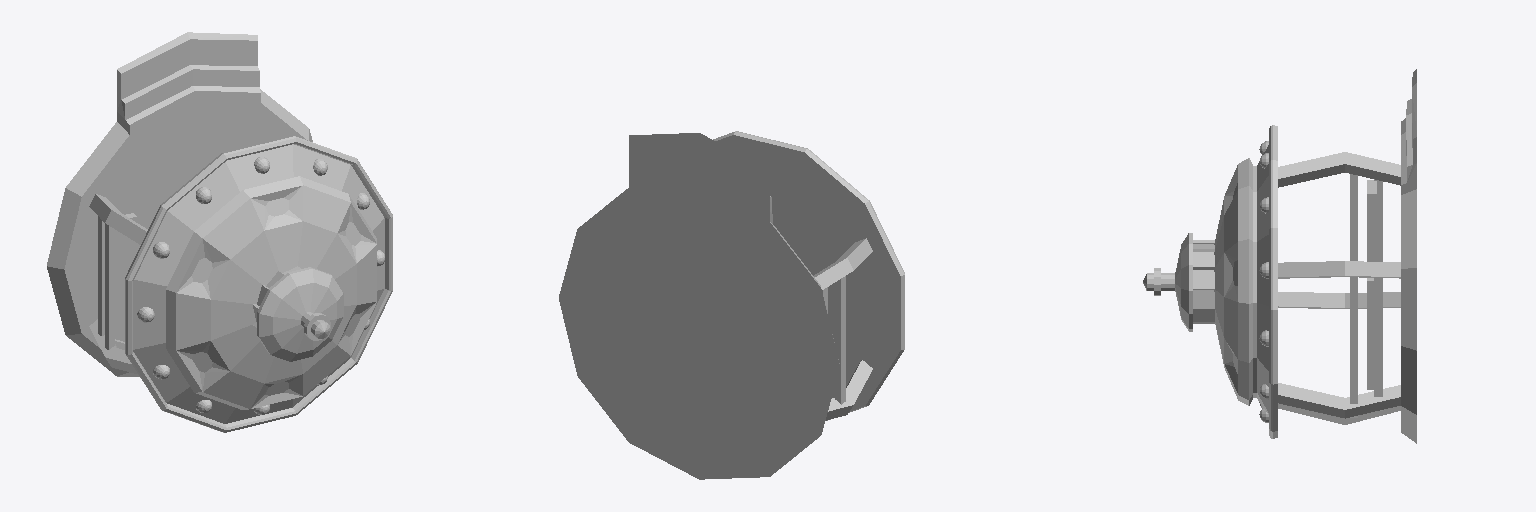
The model's file is Gazebo.obj.
The picture shows the model from 3 angles: view 1: azimuth 30°, elevation 25°; view 2: azimuth 150°, elevation 25°; view 3: azimuth 270°, elevation 25°; orthographic projection.
Parts seen in each view (by area): view 1: polySurface2; view 2: polySurface2; view 3: polySurface2.
Part boxes in pixels (left/top/right/bottom): polySurface2: left=47, top=32, right=392, bottom=432; polySurface2: left=559, top=131, right=904, bottom=479; polySurface2: left=1143, top=69, right=1416, bottom=443.
Size of the model in its own units: 822 by 968 by 694.